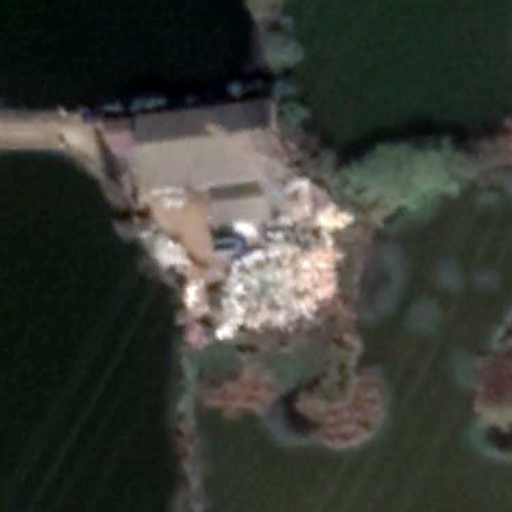msw: (154, 181, 360, 338)
